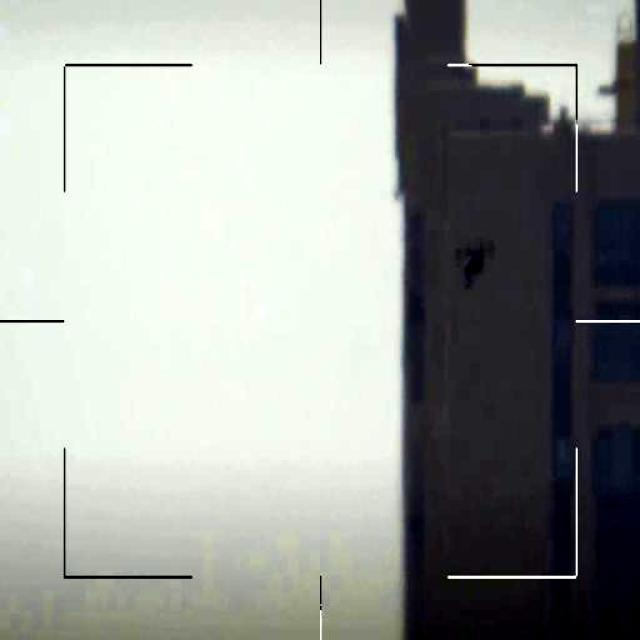bird: (446, 235, 508, 305)
